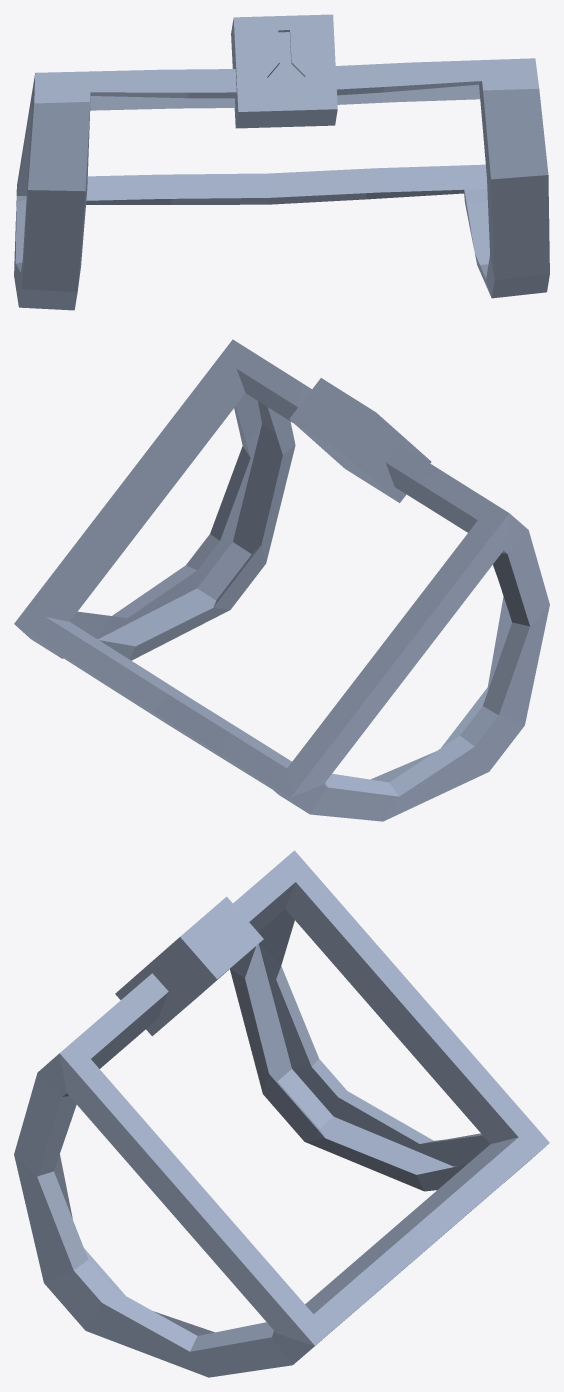
Rendered from n2_chest_top_light_grey_0_lev2.004.glb.
The picture shows the model from 3 angles, top to bottom: view 1: azimuth 30°, elevation 25°; view 2: azimuth 150°, elevation 25°; view 3: azimuth 270°, elevation 25°; orthographic projection. The views are drawn at different scales.
Visible parts, largest first — view 1: n2_chest_top_light_grey_0_lev2.004; view 2: n2_chest_top_light_grey_0_lev2.004; view 3: n2_chest_top_light_grey_0_lev2.004.
Boxes of the visible parts, x1,y1,x2,y2 form: n2_chest_top_light_grey_0_lev2.004: [14, 14, 549, 310]; n2_chest_top_light_grey_0_lev2.004: [14, 339, 549, 821]; n2_chest_top_light_grey_0_lev2.004: [14, 850, 549, 1377].
Size of the model in its own units: 2.14 by 1.23 by 1.81.
